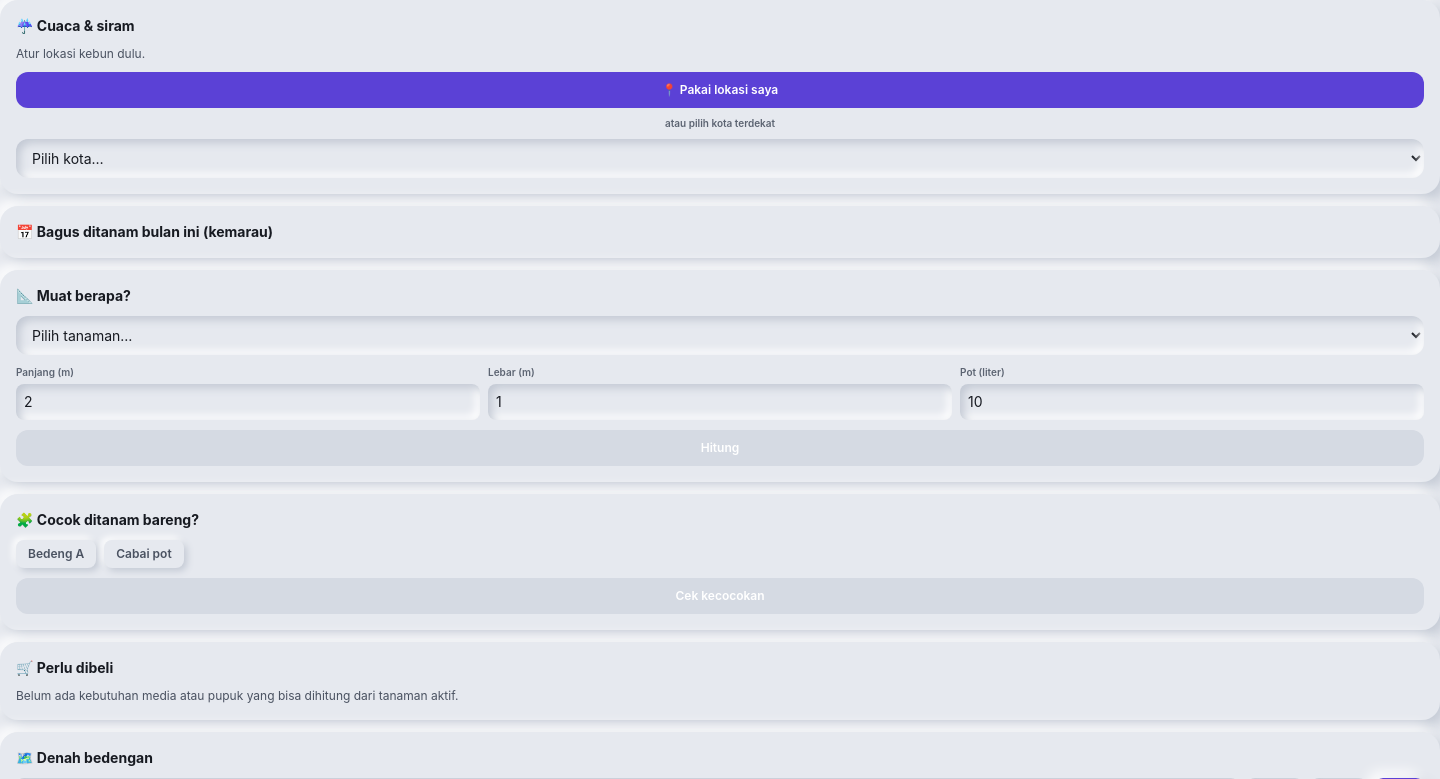
Test case: GardenPlanner › membedakan GPS mati dari izin yang ditolak
The image size is (1440, 779).
Click the button "📍 Pakai lokasi saya" at (720, 90), box [16,72,1424,108]
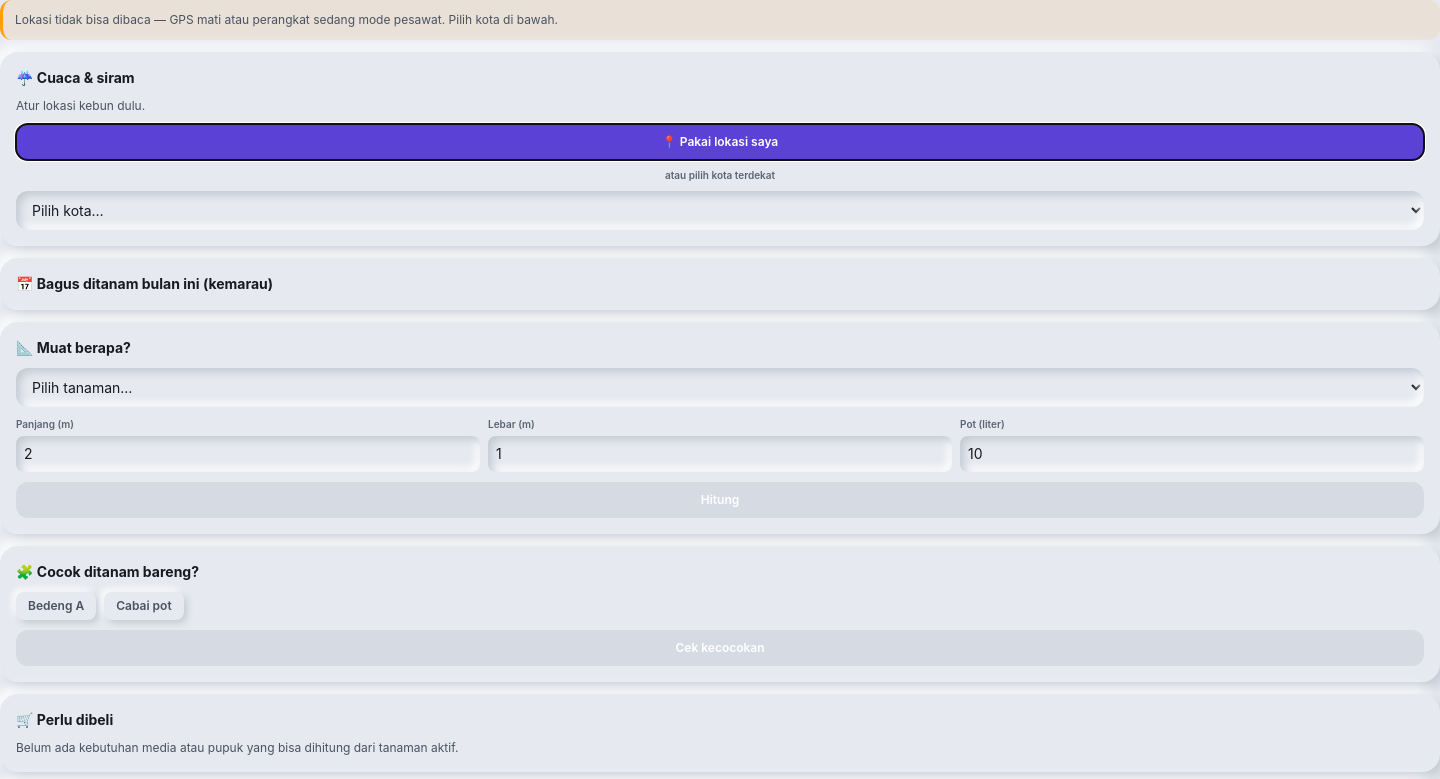
Check: the text "mode pesawat" is shown, box [15,12,558,27]
